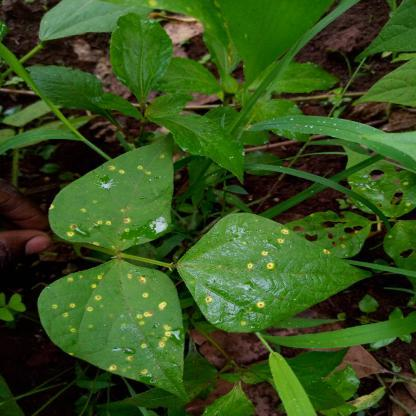Beans_Rust: (179, 214, 374, 332), (36, 262, 189, 401), (48, 146, 172, 256), (286, 210, 378, 270), (350, 158, 413, 214)
